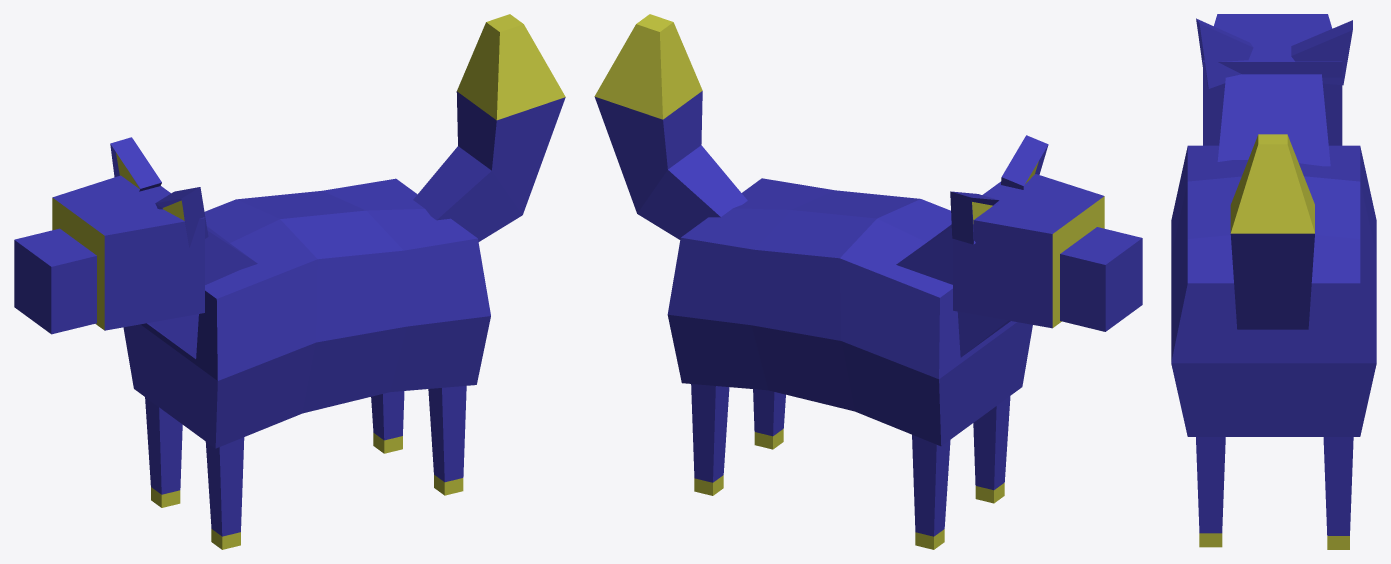
File: cat2.glb
The picture shows the model from 3 angles, left to right: view 1: azimuth 30°, elevation 25°; view 2: azimuth 150°, elevation 25°; view 3: azimuth 270°, elevation 25°; orthographic projection. The views are drawn at different scales.
Visible parts, largest first — view 1: Cube; view 2: Cube; view 3: Cube.
Boxes of the visible parts, box(x1,y1,x2,y2) form: Cube: box(14, 14, 565, 549); Cube: box(594, 14, 1142, 549); Cube: box(1171, 14, 1376, 549).
Bounding box in the file's own units: 7.25 × 5.77 × 2.38.
